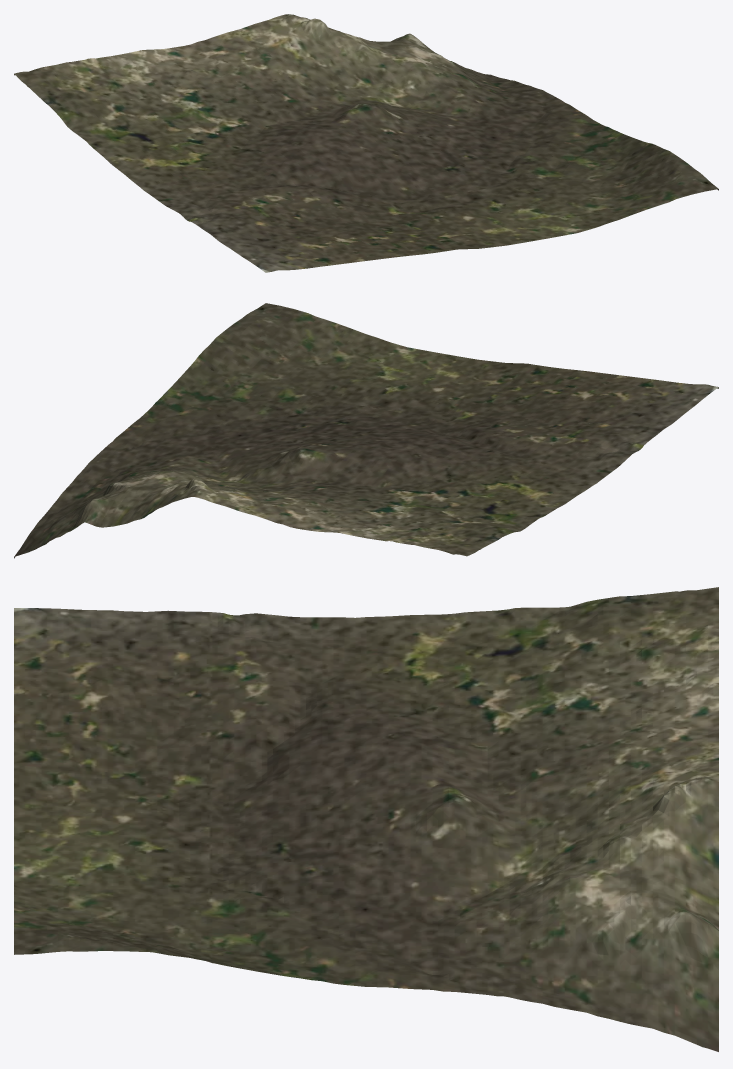
3 views of the same model, one above another, from view 1: azimuth 30°, elevation 25°; view 2: azimuth 150°, elevation 25°; view 3: azimuth 270°, elevation 25° (orthographic). The views are drawn at different scales.
Size of the model in its own units: 250 by 59.62 by 241.
1 material, 1 textured.
